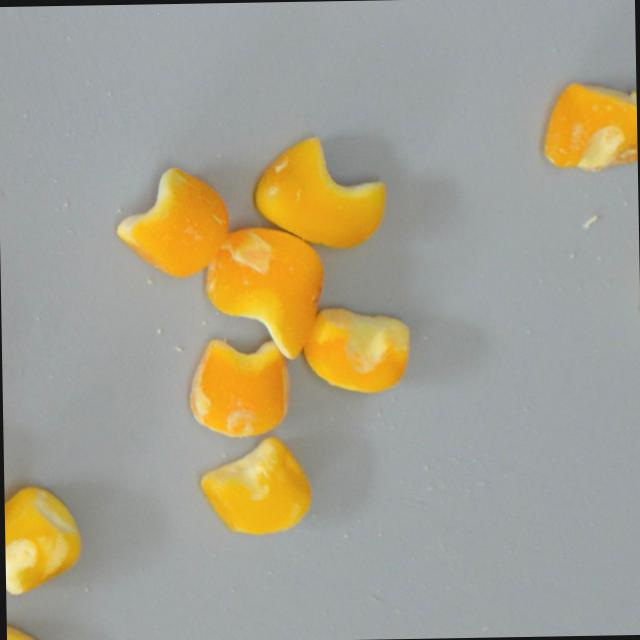no_canjicado: (251, 133, 388, 249), (198, 434, 313, 535), (302, 304, 411, 395), (3, 485, 85, 596)
pelicula: (205, 222, 325, 360), (114, 164, 230, 277), (188, 338, 292, 436), (543, 78, 637, 173)
